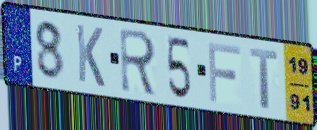5: (165, 34, 193, 100)
8: (34, 19, 68, 82)
F: (206, 40, 243, 105)
K: (74, 22, 107, 90)
R: (118, 26, 159, 99)
T: (248, 47, 280, 112)
